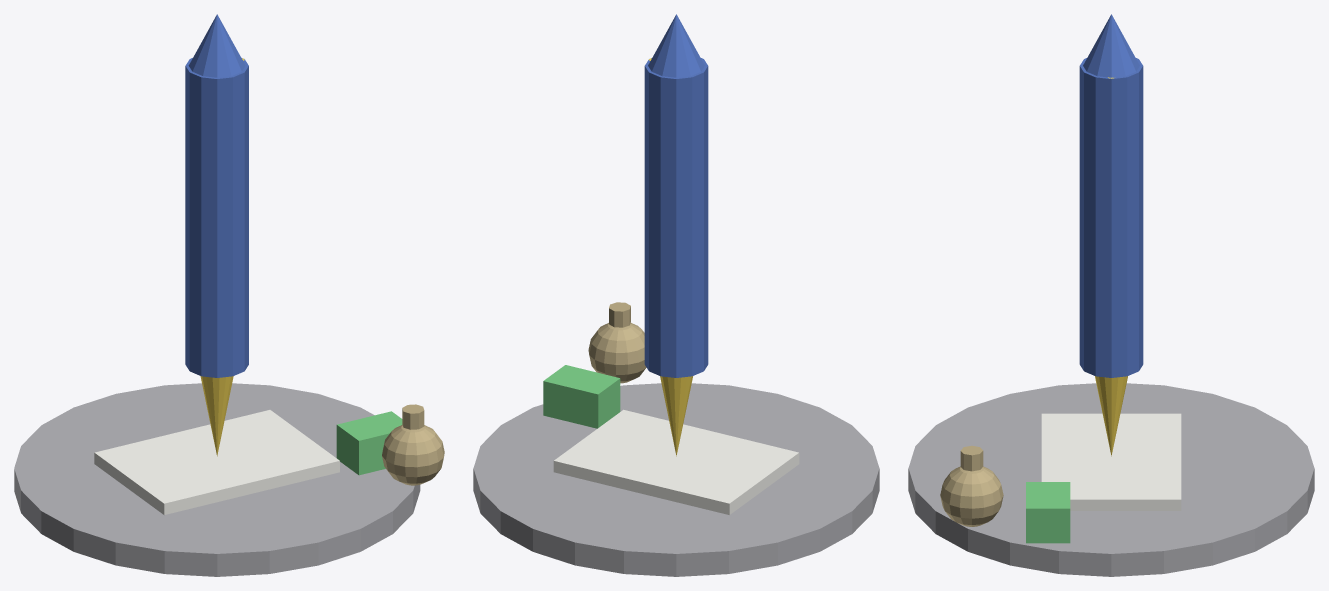
Rendered from Caneta_L1.fbx.
3 renders of one model, left to right at view 1: azimuth 30°, elevation 25°; view 2: azimuth 150°, elevation 25°; view 3: azimuth 270°, elevation 25°, orthographic.
Parts seen in each view (by area): view 1: Caneta_L1.001; view 2: Caneta_L1.001; view 3: Caneta_L1.001.
Part boxes in pixels (box(x1,y1,x2,y2)): Caneta_L1.001: box(14, 14, 444, 576); Caneta_L1.001: box(473, 14, 879, 576); Caneta_L1.001: box(908, 14, 1314, 576).
Size of the model in its own units: 3.2 by 4.15 by 3.2.
